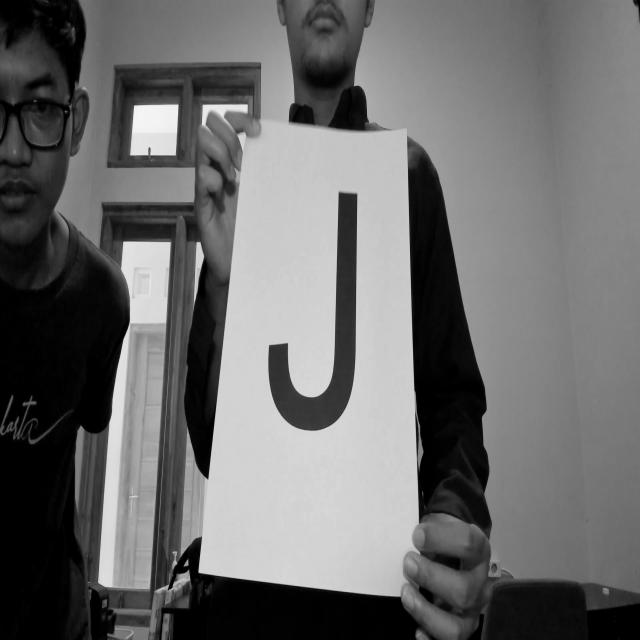j: (257, 176, 366, 440)
